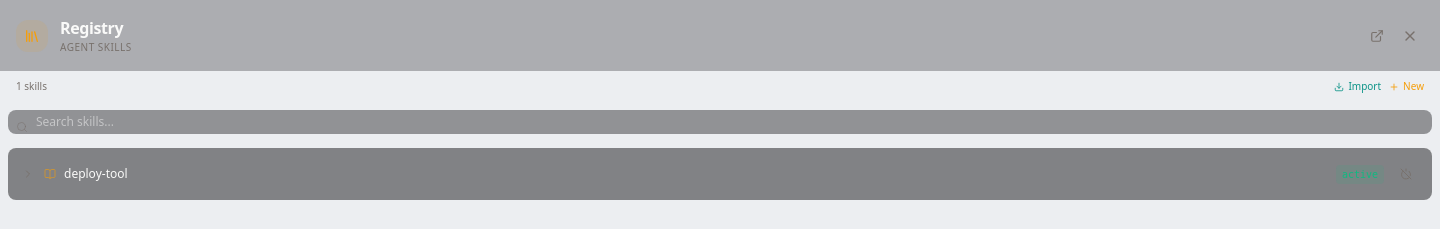
it: RegistrySidebar › shows "No matching skills" when search has no results
The image size is (1440, 229).
In the field with placeholder "Search skills...": (720, 122) [8,110,1432,134], type "nonexistent"
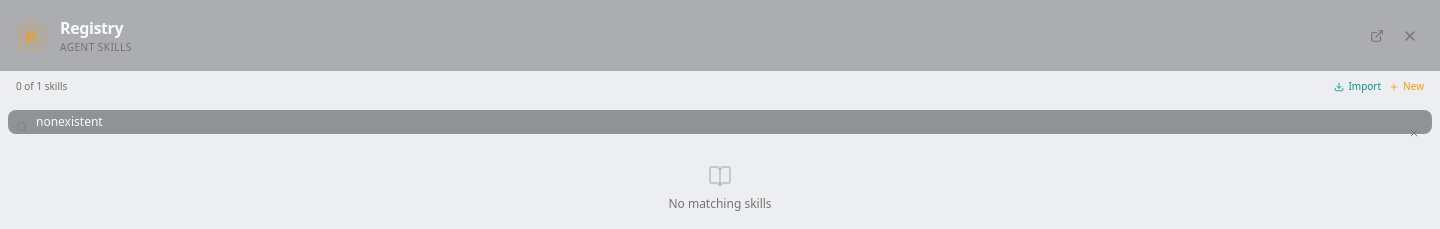
expect the text "No matching skills" is shown: met, box [668,195,772,212]
